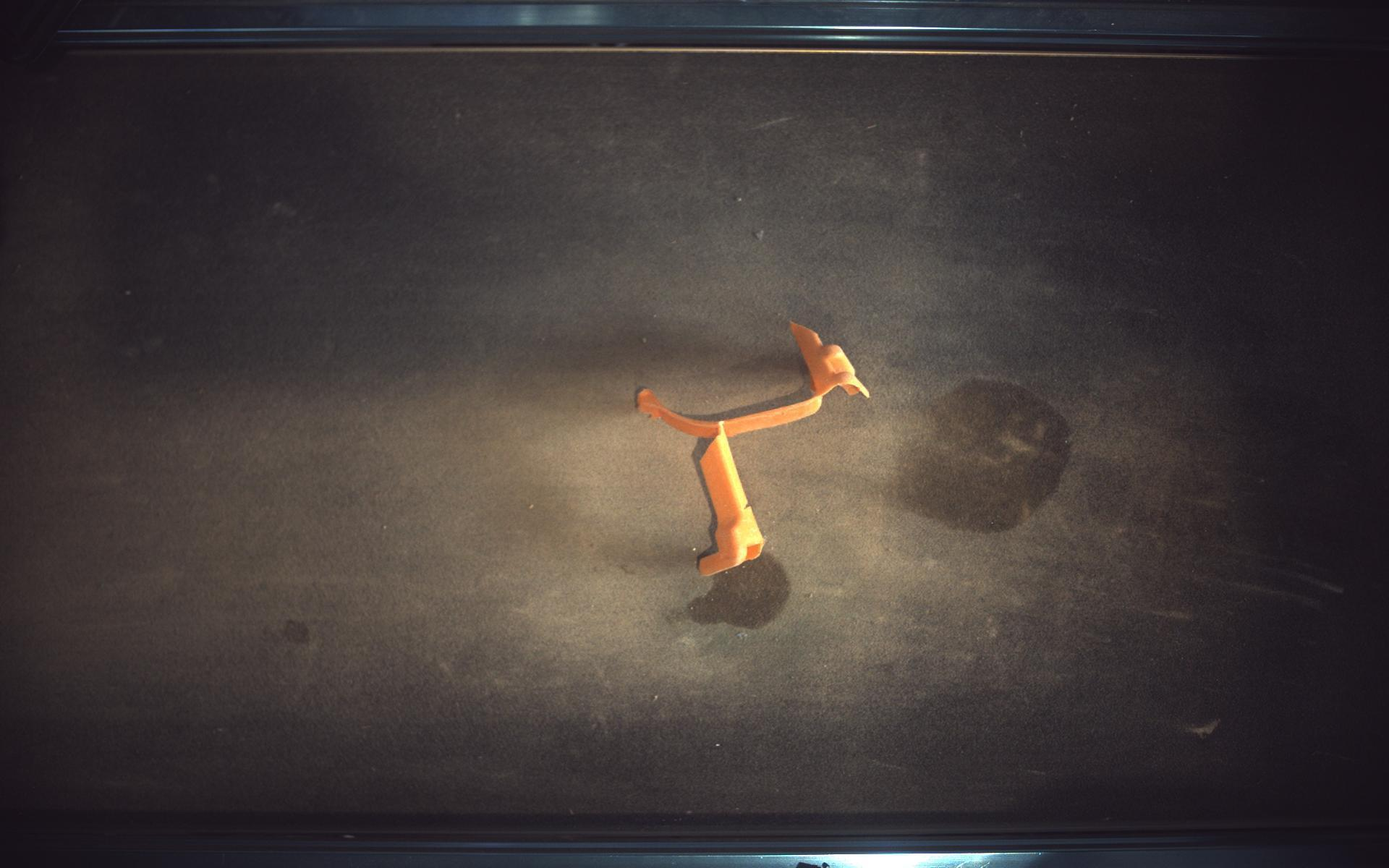general_w: (637, 323, 871, 576)
